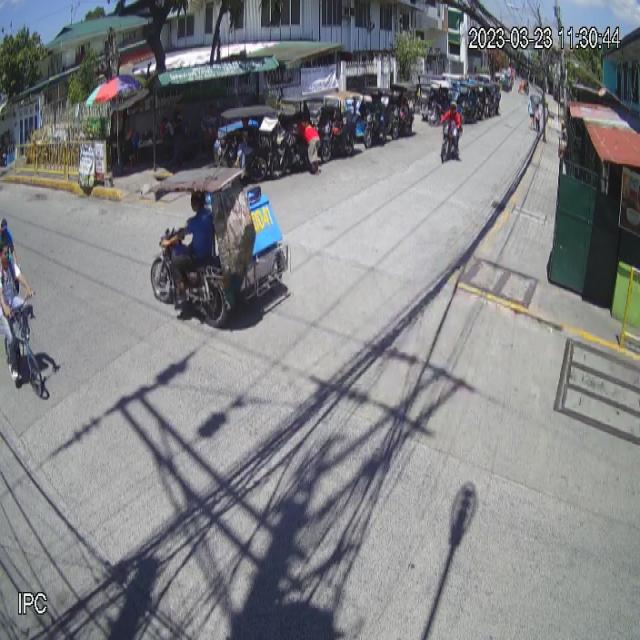Tricycle: (150, 168, 292, 327)
